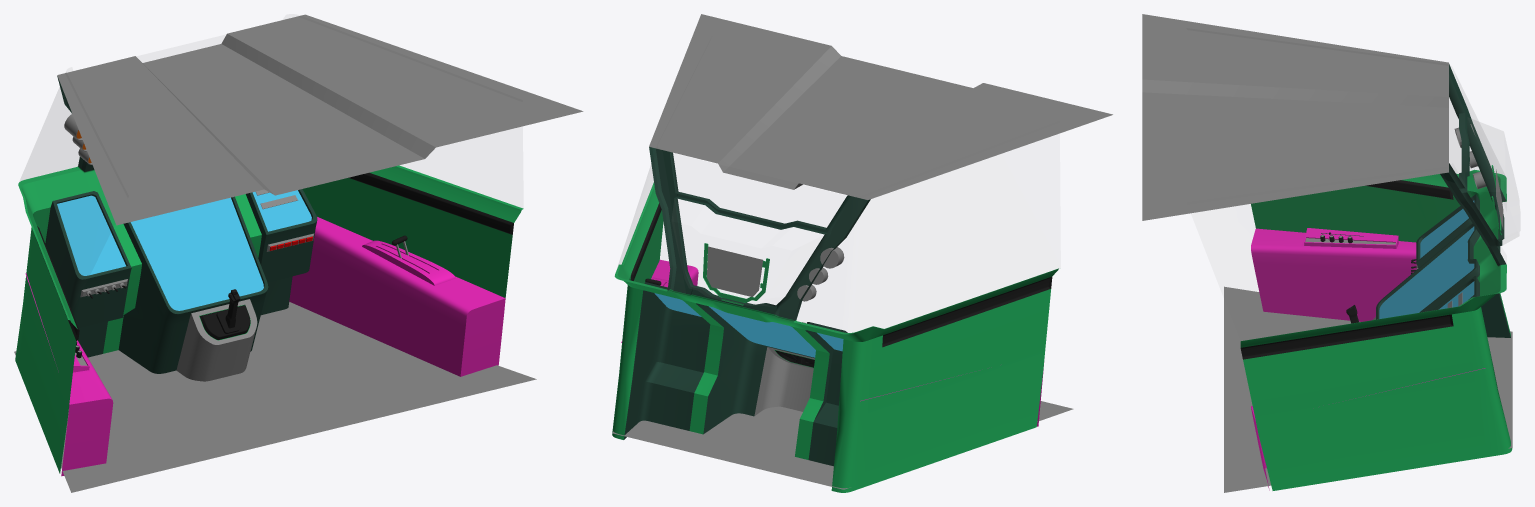
The model's file is Cockpit.FBX.
3 renders of one model, left to right at view 1: azimuth 30°, elevation 25°; view 2: azimuth 150°, elevation 25°; view 3: azimuth 270°, elevation 25°, orthographic. The views are drawn at different scales.
Visible parts, largest first — view 1: Plane003; view 2: Plane003; view 3: Plane003.
Part boxes in pixels (x1,y1,x2,y2): Plane003: (14,14,583,492); Plane003: (612,14,1112,492); Plane003: (1142,14,1519,492).
Bounding box in the file's own units: 246 × 156 × 190.
